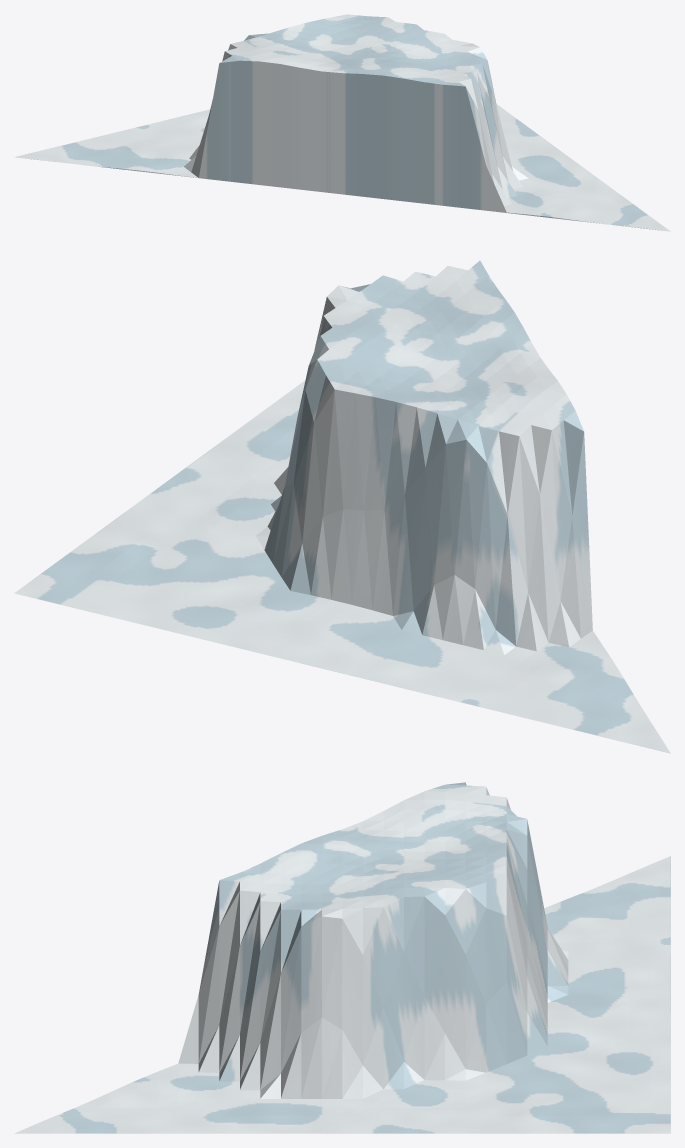
The model's file is Snow_Mountains_04_SE.obj.
3 views of the same model, one above another, from view 1: azimuth 30°, elevation 25°; view 2: azimuth 150°, elevation 25°; view 3: azimuth 270°, elevation 25° (orthographic). The views are drawn at different scales.
Bounding box in the file's own units: 10 × 2.84 × 10.
1 material, 1 textured.
